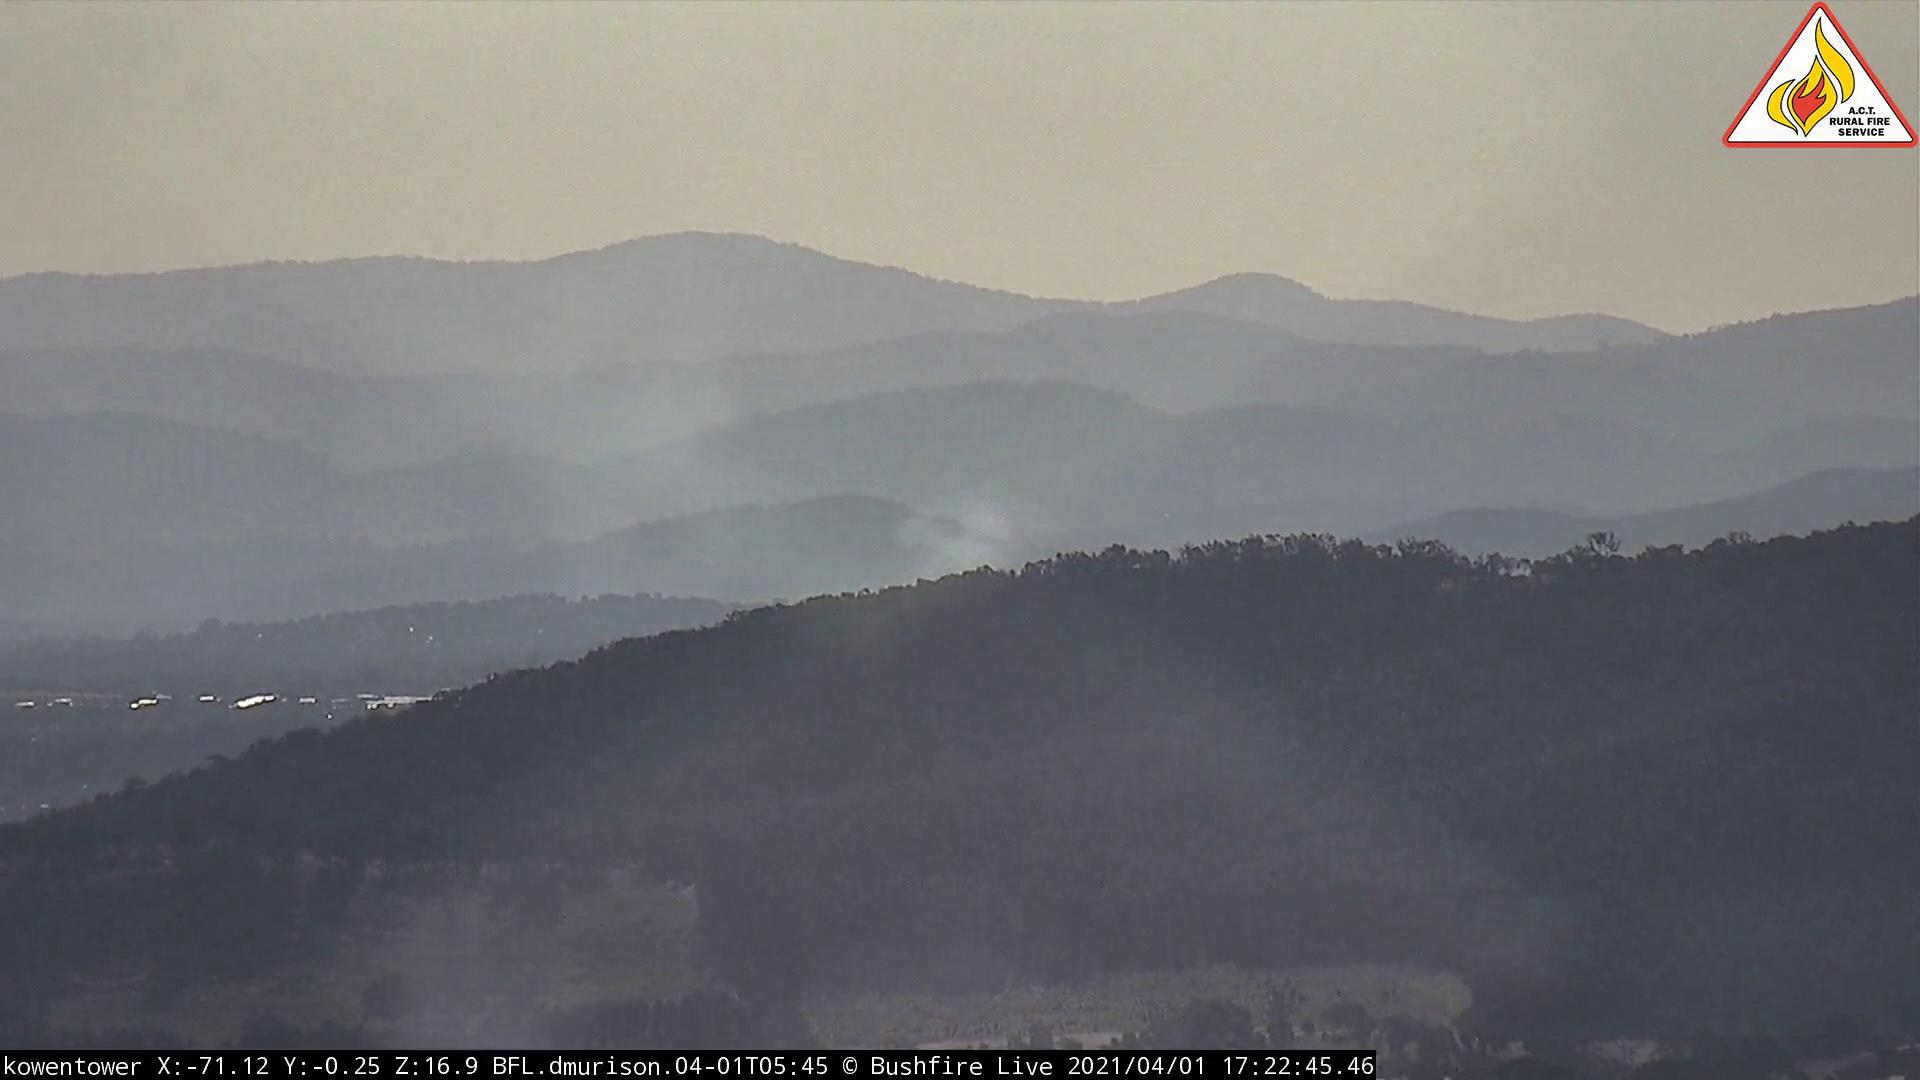Smoke: (505, 284, 1036, 657)
